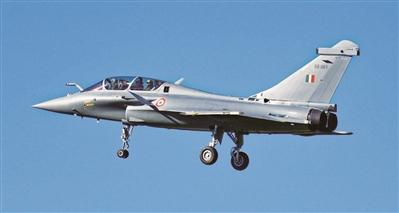airplane: (30, 39, 360, 172)
